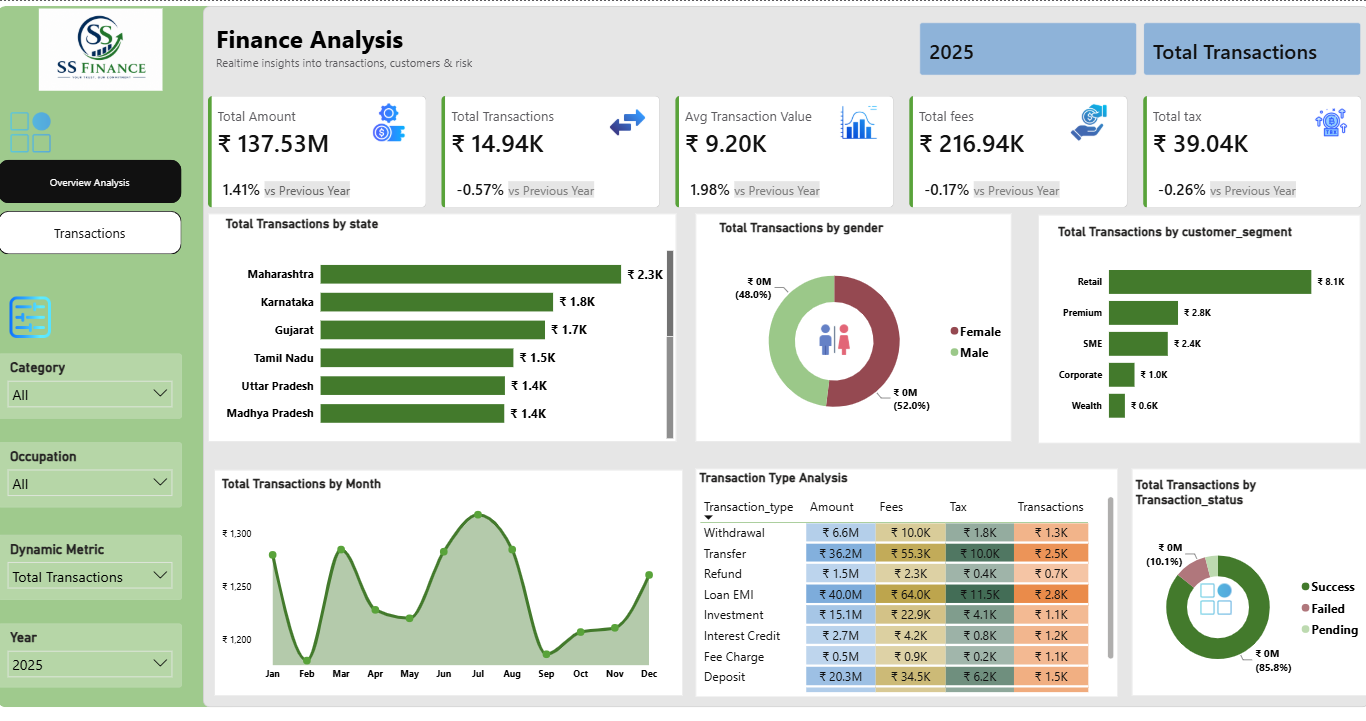

The page's visual inventory and layout, read from the dashboard file:
{"tool":"powerbi","page":{"name":"Overview Analysis","canvas":[1800,950],"ordinal":0},"visuals":[{"type":"shape","box":[0,6.6,316.8,920.8],"z":0},{"type":"shape","box":[269.2,6.6,1531.4,920.8],"z":1000},{"type":"cardVisual","fields":{"Data":["finance_transactions.Total Amount","finance_transactions.Total Transactions","finance_transactions.Avg Transaction Value","finance_transactions.Total fees","finance_transactions.Total tax"]},"box":[269.2,118.2,1531.4,159.2],"z":2000},{"type":"slicer","fields":{"Values":["Calendar Table.Year"]},"box":[0,817.4,241.3,83.7],"z":3000},{"type":"image","box":[487.5,134.6,50.9,49.2],"z":4000},{"type":"image","box":[801,134.6,50.9,49.2],"z":5000},{"type":"image","box":[1406.6,134.6,50.9,49.2],"z":6000},{"type":"image","box":[1725,134.6,50.9,49.2],"z":7000},{"type":"image","box":[1104.6,134.6,50.9,49.2],"z":8000},{"type":"slicer","fields":{"Values":["Dynamic Metric.Dynamic Metric"]},"box":[0,700.9,241.3,85.3],"z":9000},{"type":"shape","box":[275.7,279,615,300],"z":10000},{"type":"image","box":[0,9.8,269.2,108.3],"z":11000},{"type":"cardVisual","fields":{"Data":["finance_transactions.Dashboard Title"]},"box":[269.2,0,407.1,118.2],"z":12000},{"type":"cardVisual","fields":{"Data":["finance_transactions.Selected Year","finance_transactions.Selected Dynamic Measure"]},"box":[1204.7,23,590.9,80.4],"z":13000},{"type":"shape","box":[915.9,279,415,300],"z":14000},{"type":"shape","box":[1365.6,280.7,423.5,300.4],"z":15000},{"type":"barChart","fields":{"Y":["finance_transactions.Total Transactions"],"Category":["customers.customer_segment"]},"box":[1386.9,292.2,403.8,277.4],"z":16000},{"type":"shape","box":[284,615.5,615.5,297.1],"z":17000},{"type":"barChart","fields":{"Y":["finance_transactions.Total Transactions"],"Category":["customers.state"]},"box":[293.8,282.3,597.4,297.1],"z":18000},{"type":"shape","box":[915.9,613.9,554.8,300.4],"z":19000},{"type":"shape","box":[1488.7,613.9,311.9,298.7],"z":20000},{"type":"tableEx","title":"Transaction Type Analysis","fields":{"Values":["finance_transactions.transaction_type","finance_transactions.Total Amount","finance_transactions.Total fees","finance_transactions.Total tax","finance_transactions.Total Transactions"]},"box":[915.9,615.5,554.8,297.1],"z":21000},{"type":"donutChart","fields":{"Y":["finance_transactions.Total Transactions"],"Category":["customers.gender"]},"box":[942.1,287.2,389,287.2],"z":22000},{"type":"image","box":[1577.3,764.9,44.3,41],"z":23000},{"type":"image","box":[1075.1,421.8,47.6,46],"z":24000},{"type":"slicer","fields":{"Values":["customers.occupation"]},"box":[0,579.4,241.3,85.3],"z":25000},{"type":"slicer","fields":{"Values":["finance_transactions.merchant_category"]},"box":[0,462.9,241.3,85.3],"z":26000},{"type":"pageNavigator","box":[0,208.4,241.3,124.7],"z":27000},{"type":"image","box":[13.1,146.1,59.1,52.5],"z":28000},{"type":"image","box":[0,384.1,85.3,62.4],"z":29000},{"type":"donutChart","fields":{"Y":["finance_transactions.Total Transactions"],"Category":["finance_transactions.transaction_status"]},"box":[1488.7,625.3,311.9,288.9],"z":30000},{"type":"areaChart","fields":{"Y":["finance_transactions.Total Transactions"],"Category":["Calendar Table.Month"]},"box":[288.9,623.7,589.2,277.4],"z":31000}]}

Visuals, with their boxes on the page's 1800x950 design canvas (x1, y1, x2, y2). These are canvas units, not pixel positions in the 1366x721 screenshot, which may show the page scaled, cropped or inside an application window:
shape: locate(0, 7, 317, 927)
shape: locate(269, 7, 1801, 927)
cardVisual - finance_transactions.Total Amount x finance_transactions.Total Transactions: locate(269, 118, 1801, 277)
slicer - Calendar Table.Year: locate(0, 817, 241, 901)
image: locate(488, 135, 538, 184)
image: locate(801, 135, 852, 184)
image: locate(1407, 135, 1458, 184)
image: locate(1725, 135, 1776, 184)
image: locate(1105, 135, 1156, 184)
slicer - Dynamic Metric.Dynamic Metric: locate(0, 701, 241, 786)
shape: locate(276, 279, 891, 579)
image: locate(0, 10, 269, 118)
cardVisual - finance_transactions.Dashboard Title: locate(269, 0, 676, 118)
cardVisual - finance_transactions.Selected Year x finance_transactions.Selected Dynamic Measure: locate(1205, 23, 1796, 103)
shape: locate(916, 279, 1331, 579)
shape: locate(1366, 281, 1789, 581)
barChart - finance_transactions.Total Transactions x customers.customer_segment: locate(1387, 292, 1791, 570)
shape: locate(284, 616, 900, 913)
barChart - finance_transactions.Total Transactions x customers.state: locate(294, 282, 891, 579)
shape: locate(916, 614, 1471, 914)
shape: locate(1489, 614, 1801, 913)
"Transaction Type Analysis" tableEx: locate(916, 616, 1471, 913)
donutChart - finance_transactions.Total Transactions x customers.gender: locate(942, 287, 1331, 574)
image: locate(1577, 765, 1622, 806)
image: locate(1075, 422, 1123, 468)
slicer - customers.occupation: locate(0, 579, 241, 665)
slicer - finance_transactions.merchant_category: locate(0, 463, 241, 548)
pageNavigator: locate(0, 208, 241, 333)
image: locate(13, 146, 72, 199)
image: locate(0, 384, 85, 446)
donutChart - finance_transactions.Total Transactions x finance_transactions.transaction_status: locate(1489, 625, 1801, 914)
areaChart - finance_transactions.Total Transactions x Calendar Table.Month: locate(289, 624, 878, 901)
